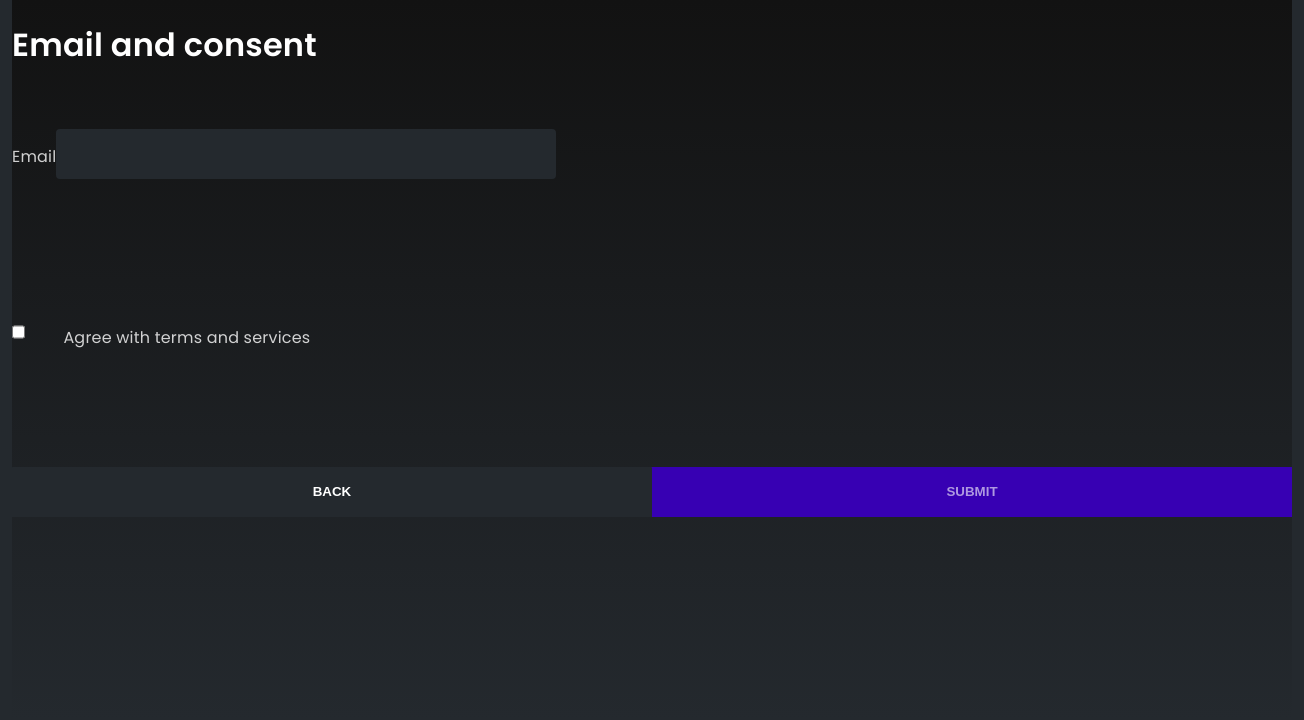
rendering › form is invalid › should display an error message when "Agree with terms and services" field is empty after being touched
The image size is (1304, 720).
Click the checkbox labelled "Agree with terms and services".
click(18, 332)  # box 12,307 -> 25,357
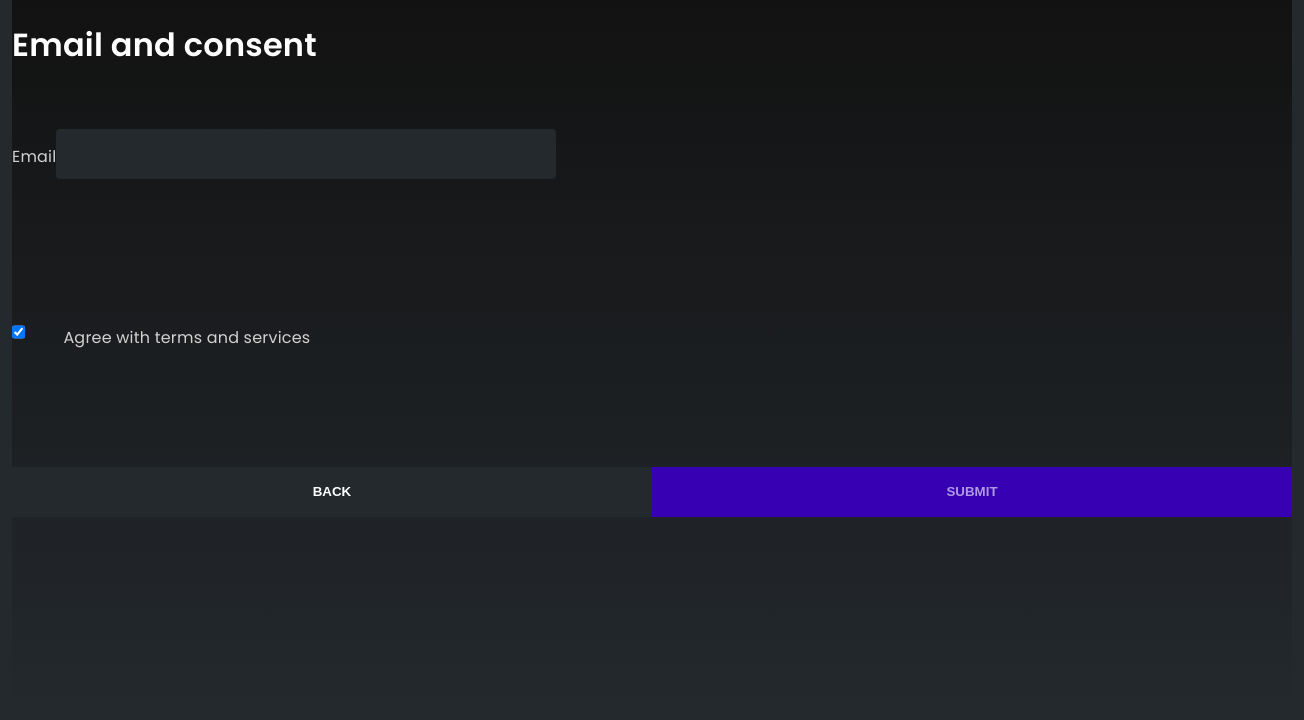
Check: the checkbox labelled "Agree with terms and services" is checked
Click the checkbox labelled "Agree with terms and services".
click(18, 332)  # box 12,307 -> 25,357
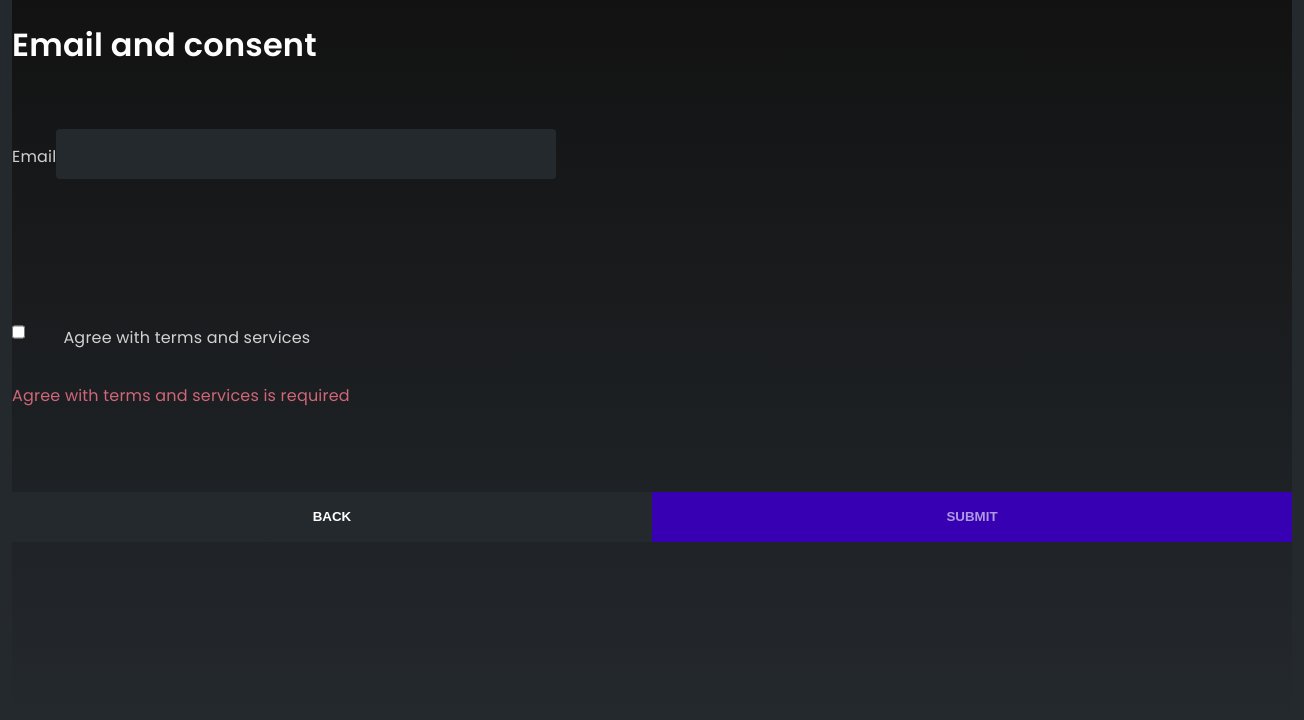
Check: the checkbox labelled "Agree with terms and services" is not checked, box 12,307 -> 25,357
Check: the message reads "Agree with terms and services is required", box 12,384 -> 350,407
